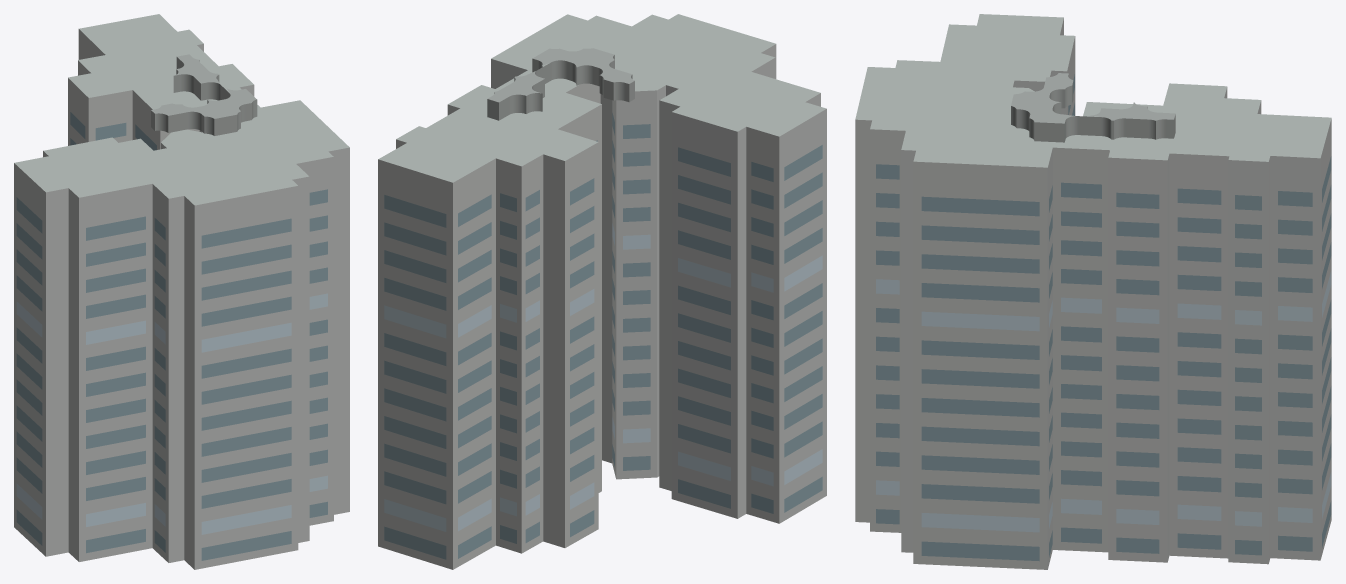
The model's file is fallback-mapo-raemian-prugio-205.glb.
3 views of the same model, side by side, from view 1: azimuth 30°, elevation 25°; view 2: azimuth 150°, elevation 25°; view 3: azimuth 270°, elevation 25° (orthographic). The views are drawn at different scales.
Visible parts, largest first — view 1: fallback-mapo-raemian-prugio-205; view 2: fallback-mapo-raemian-prugio-205; view 3: fallback-mapo-raemian-prugio-205.
Boxes of the visible parts, box(x1,y1,x2,y2) form: fallback-mapo-raemian-prugio-205: box(14, 14, 349, 569); fallback-mapo-raemian-prugio-205: box(378, 14, 826, 569); fallback-mapo-raemian-prugio-205: box(855, 14, 1331, 569).
Bounding box in the file's own units: 36.78 × 47 × 48.18.
